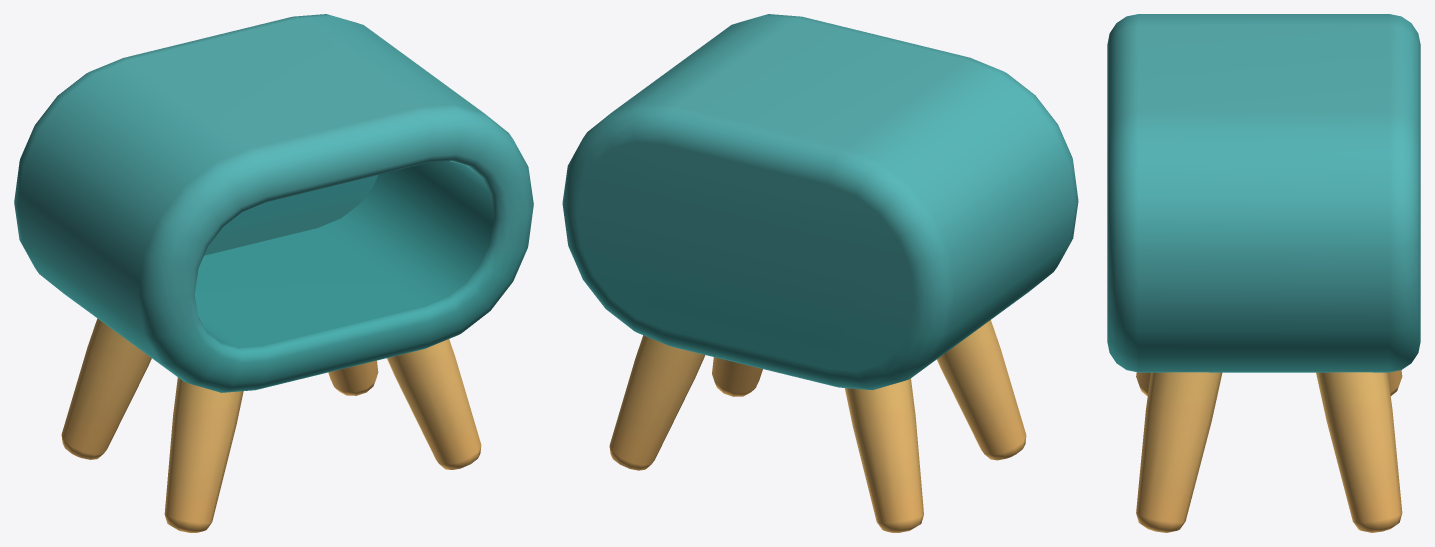
The model's file is Nightstand_04.glb.
The picture shows the model from 3 angles, left to right: view 1: azimuth 30°, elevation 25°; view 2: azimuth 150°, elevation 25°; view 3: azimuth 270°, elevation 25°; orthographic projection. The views are drawn at different scales.
Visible parts, largest first — view 1: Nightstand_04; view 2: Nightstand_04; view 3: Nightstand_04.
Part boxes in pixels (bbox=[...]): Nightstand_04: bbox=[14, 14, 533, 532]; Nightstand_04: bbox=[562, 14, 1078, 532]; Nightstand_04: bbox=[1107, 14, 1420, 532].
Size of the model in its own units: 0.6 by 0.556 by 0.4.
Materials: 1 (1 with a texture image).
